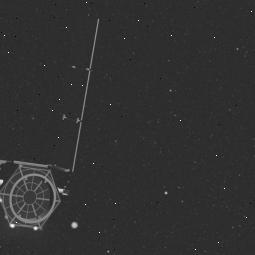earth_observation_sat_1: (0, 132, 88, 238)
